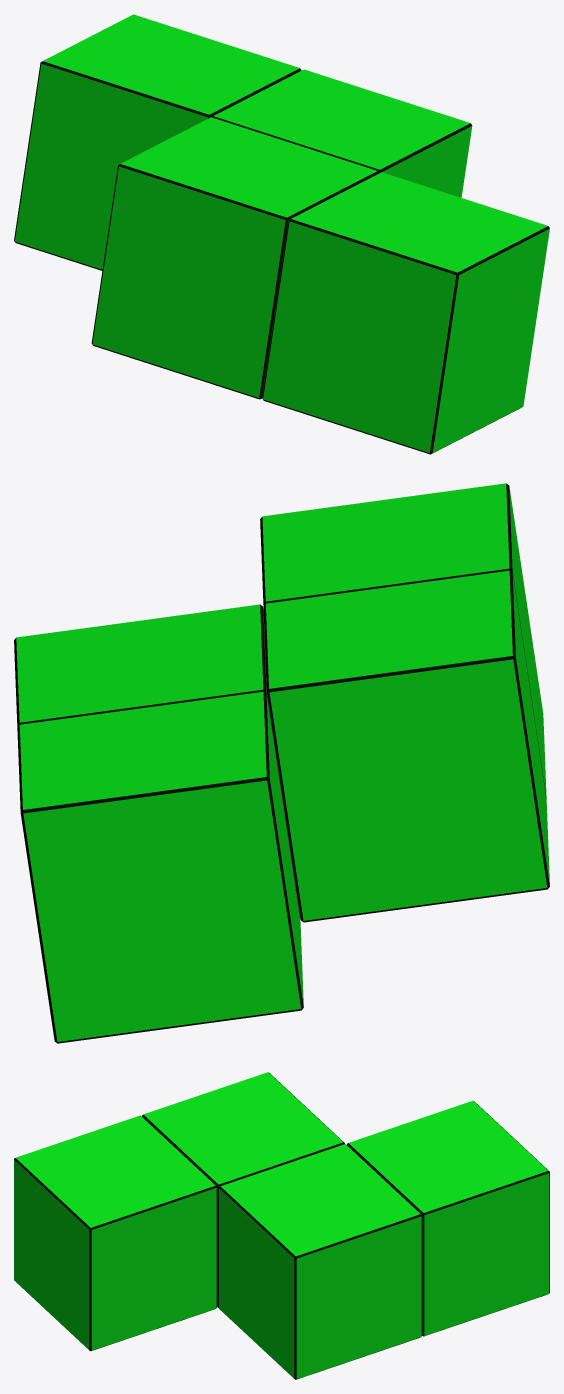
3 renders of one model, top to bottom at view 1: azimuth 30°, elevation 25°; view 2: azimuth 150°, elevation 25°; view 3: azimuth 270°, elevation 25°, orthographic. The views are drawn at different scales.
Parts seen in each view (by area): view 1: Cube.018, Cube.017, Cube.019, Cube.020; view 2: Cube.019, Cube.017, Cube.018, Cube.020; view 3: Cube.020, Cube.018, Cube.019, Cube.017.
Part boxes in pixels (<box>): Cube.018: <box>262,172,549,454</box>; Cube.017: <box>91,117,379,399</box>; Cube.019: <box>14,14,301,270</box>; Cube.020: <box>212,69,472,197</box>; Cube.019: <box>17,691,303,1043</box>; Cube.017: <box>263,570,549,922</box>; Cube.018: <box>260,483,546,799</box>; Cube.020: <box>14,604,300,919</box>; Cube.020: <box>219,1144,421,1379</box>; Cube.018: <box>14,1115,216,1351</box>; Cube.019: <box>347,1100,549,1336</box>; Cube.017: <box>142,1072,344,1307</box>.
Bounding box in the file's own units: 234 × 134 × 359.
